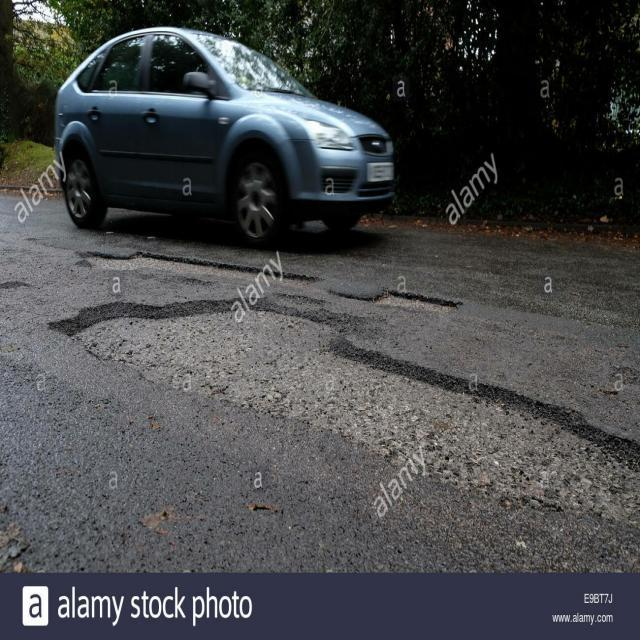Buraco: (39, 289, 640, 533), (69, 246, 329, 289), (322, 286, 468, 318)
